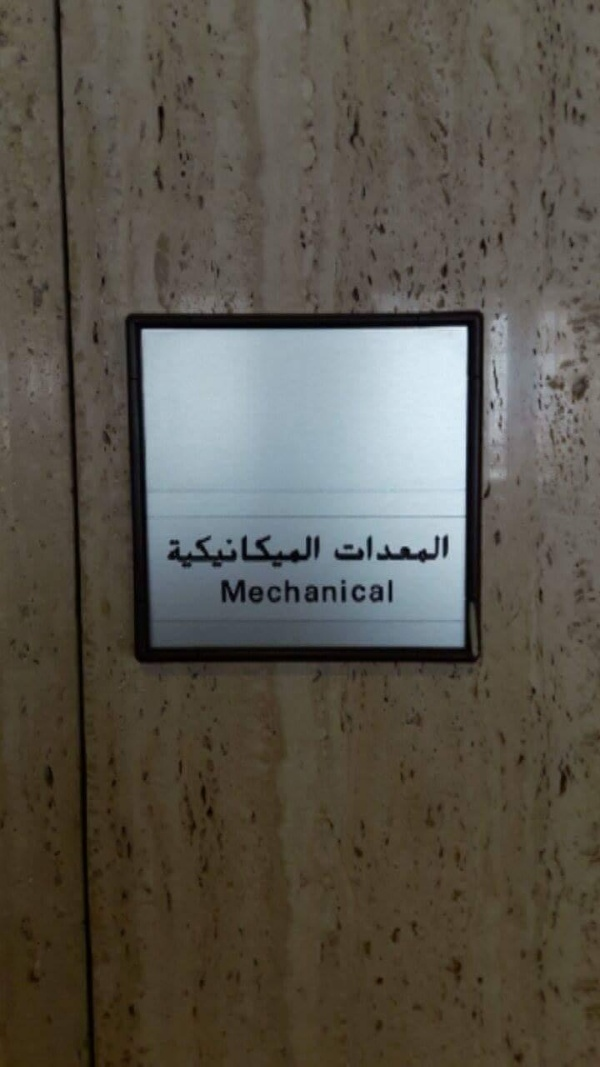text: (177, 528, 192, 573), (193, 528, 208, 573), (209, 528, 224, 573), (225, 528, 240, 573), (241, 528, 256, 573), (257, 528, 272, 573), (273, 528, 288, 573), (289, 528, 304, 573), (305, 528, 320, 573), (337, 532, 352, 567), (353, 532, 368, 567), (369, 532, 384, 567), (385, 532, 400, 567), (401, 532, 416, 567), (417, 532, 432, 567), (433, 532, 448, 567), (166, 528, 176, 573), (225, 578, 240, 605), (241, 578, 256, 605), (257, 578, 272, 605), (273, 578, 288, 605), (289, 578, 304, 605), (305, 578, 320, 605), (321, 578, 336, 605), (337, 578, 352, 605), (353, 578, 368, 605), (369, 578, 384, 605), (385, 578, 398, 605), (217, 578, 224, 605), (321, 528, 322, 573), (335, 532, 336, 567), (449, 532, 450, 567)
